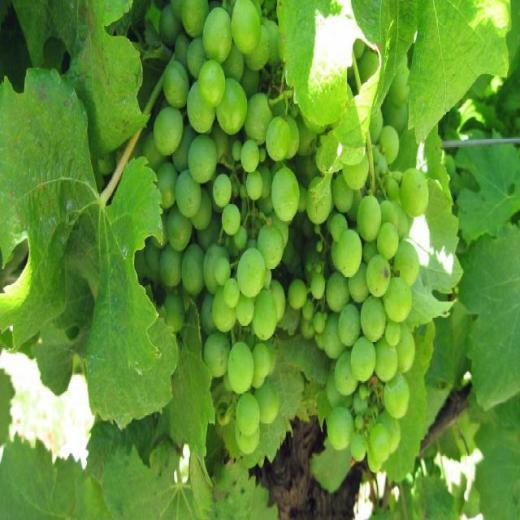Orange: (97, 0, 429, 474)
